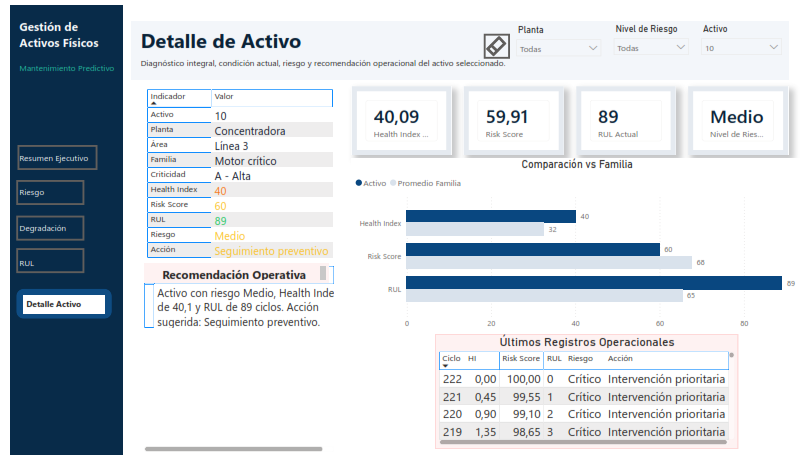

The dashboard page shown, as its layout file describes it:
{"tool":"powerbi","page":{"name":"Detalle Activo","canvas":[1280,720],"ordinal":4},"visuals":[{"type":"shape","box":[0,0,180.3,719.7],"z":0},{"type":"textbox","box":[10.1,229.8,129.6,29.3],"z":0,"group":"g1"},{"type":"textbox","box":[10.1,285.3,130,30],"z":0,"group":"g2"},{"type":"textbox","box":[10.1,342.1,129.6,29.3],"z":0,"group":"g3"},{"type":"shape","box":[10.1,454.2,152.9,47.7],"z":0,"group":"g4"},{"type":"textbox","box":[10.1,398.3,129,29.1],"z":1000},{"type":"textbox","box":[21.4,463.7,129.6,29.3],"z":1000,"group":"g4"},{"type":"textbox","box":[9.8,17.1,170,61.1],"z":2000},{"type":"textbox","box":[9.8,86.8,170,40.4],"z":3000},{"type":"group","id":"g1","title":"Grupo 1","box":[10.1,229.8,130,28.8],"z":4000},{"type":"group","id":"g2","title":"Grupo 1","box":[10.1,285.3,130,30],"z":5000},{"type":"group","id":"g3","title":"Grupo 1","box":[10.1,342.1,129.6,29.3],"z":6000},{"type":"shape","box":[194.8,26.6,1050,92.4],"z":7000},{"type":"textbox","box":[204.3,28.6,391.4,58.6],"z":8000},{"type":"textbox","box":[203.7,78.4,613.6,39.2],"z":9000},{"type":"slicer","fields":{"Values":["dim_engine.site"]},"box":[799.5,26.6,156.9,58.2],"z":10000},{"type":"slicer","fields":{"Values":["dim_engine.current_risk_level"]},"box":[956.4,25.3,139.2,59.5],"z":11000},{"type":"slicer","fields":{"Values":["dim_engine.engine_id"]},"box":[1095.6,25.3,149.3,59.5],"z":12000},{"type":"group","id":"g4","title":"Grupo 1","box":[10.1,454.2,153.1,46.8],"z":13000},{"type":"cardVisual","fields":{"Data":["Medidas.Risk Score"]},"box":[726.2,130.3,159.4,110.1],"z":14000},{"type":"cardVisual","fields":{"Data":["Medidas.Health Index Actual"]},"box":[546.5,130.3,159.4,110.1],"z":15000},{"type":"cardVisual","fields":{"Data":["Medidas.RUL Actual"]},"box":[905.8,130.3,159.4,110.1],"z":16000},{"type":"cardVisual","fields":{"Data":["Min(dim_engine.current_risk_level)"]},"box":[1085.4,130.3,159.4,110.1],"z":17000},{"type":"pivotTable","fields":{"Values":["Ficha Activo.Valor Ficha Activo"],"Rows":["Ficha Activo.Campo"]},"box":[214.8,130,309.3,283.3],"z":18000},{"type":"clusteredBarChart","title":"Comparación vs Familia","fields":{"Category":["Comparacion KPI.Indicador"],"Y":["Comparacion KPI.Valor Activo Comparacion","Comparacion KPI.Valor Familia Comparacion"]},"box":[546.7,245,721.7,281.7],"z":19000},{"type":"pivotTable","fields":{"Values":["Medidas.Texto Recomendacion Activo"]},"box":[210.3,413.3,313,306.9],"z":20000},{"type":"textbox","box":[215.2,413.3,294.7,30.6],"z":21000},{"type":"tableEx","title":"Últimos Registros Operacionales","fields":{"Values":["fact_engine_cycles.cycle","fact_engine_cycles.health_index","fact_engine_cycles.risk_score","fact_engine_cycles.rul","fact_engine_cycles.risk_level","fact_engine_cycles.recommended_action"]},"box":[679.5,526.9,485,183.4],"z":22000},{"type":"actionButton","box":[10.4,336.8,108.8,40.2],"z":23000},{"type":"actionButton","box":[10.4,388.9,108.8,40.2],"z":24000},{"type":"actionButton","box":[10.4,280.1,108.8,40.2],"z":25000},{"type":"actionButton","box":[11.9,223.5,128.1,40.2],"z":26000},{"type":"actionButton","box":[758.2,46.5,41.6,39.1],"z":27000}]}

Visuals, with their boxes on the page's 1280x720 design canvas (x1, y1, x2, y2). These are canvas units, not pixel positions in the 812x462 screenshot, which may show the page scaled, cropped or inside an application window:
shape: (0, 0, 180, 720)
textbox: (10, 230, 140, 259)
textbox: (10, 285, 140, 315)
textbox: (10, 342, 140, 371)
shape: (10, 454, 163, 502)
textbox: (10, 398, 139, 427)
textbox: (21, 464, 151, 493)
textbox: (10, 17, 180, 78)
textbox: (10, 87, 180, 127)
"Grupo 1" group: (10, 230, 140, 259)
"Grupo 1" group: (10, 285, 140, 315)
"Grupo 1" group: (10, 342, 140, 371)
shape: (195, 27, 1245, 119)
textbox: (204, 29, 596, 87)
textbox: (204, 78, 817, 118)
slicer - dim_engine.site: (800, 27, 956, 85)
slicer - dim_engine.current_risk_level: (956, 25, 1096, 85)
slicer - dim_engine.engine_id: (1096, 25, 1245, 85)
"Grupo 1" group: (10, 454, 163, 501)
cardVisual - Medidas.Risk Score: (726, 130, 886, 240)
cardVisual - Medidas.Health Index Actual: (546, 130, 706, 240)
cardVisual - Medidas.RUL Actual: (906, 130, 1065, 240)
cardVisual - Min(dim_engine.current_risk_level): (1085, 130, 1245, 240)
pivotTable - Ficha Activo.Valor Ficha Activo x Ficha Activo.Campo: (215, 130, 524, 413)
"Comparación vs Familia" clusteredBarChart: (547, 245, 1268, 527)
pivotTable - Medidas.Texto Recomendacion Activo: (210, 413, 523, 720)
textbox: (215, 413, 510, 444)
"Últimos Registros Operacionales" tableEx: (680, 527, 1164, 710)
actionButton: (10, 337, 119, 377)
actionButton: (10, 389, 119, 429)
actionButton: (10, 280, 119, 320)
actionButton: (12, 224, 140, 264)
actionButton: (758, 46, 800, 86)
